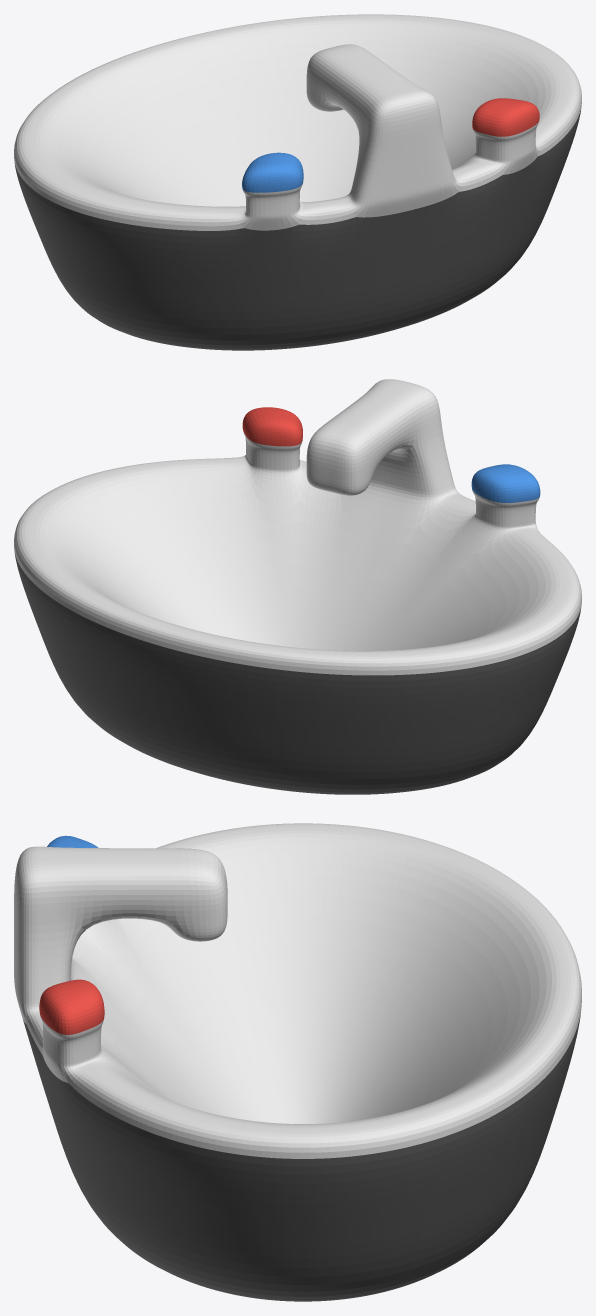
Rendered from Wash.fbx.
3 renders of one model, top to bottom at view 1: azimuth 30°, elevation 25°; view 2: azimuth 150°, elevation 25°; view 3: azimuth 270°, elevation 25°, orthographic. The views are drawn at different scales.
Parts seen in each view (by area): view 1: Cylinder; view 2: Cylinder; view 3: Cylinder.
Boxes of the visible parts, <box> form: Cylinder: <box>14,14,581,350</box>; Cylinder: <box>14,379,581,794</box>; Cylinder: <box>14,823,581,1301</box>.
Bounding box in the file's own units: 456 × 222 × 340.
